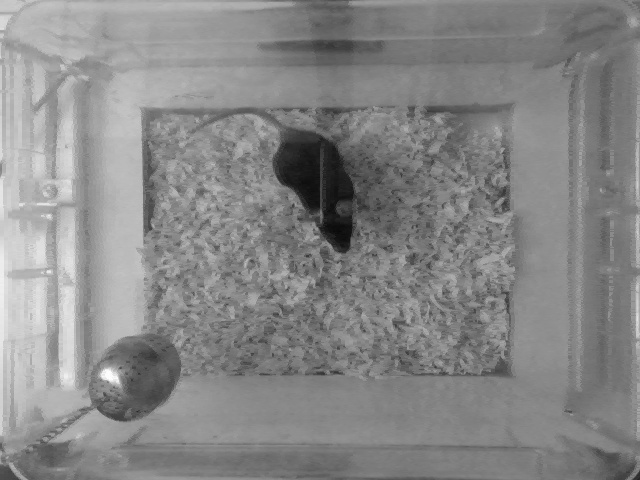mice: (180, 107, 361, 254)
